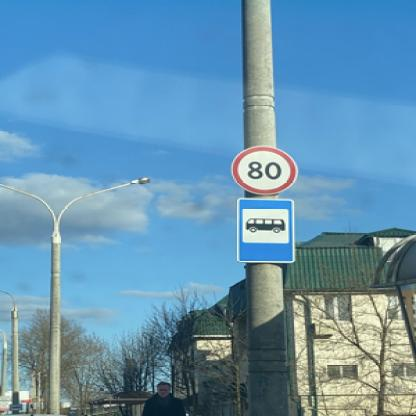Speed Limit 80: (232, 145, 298, 196)
